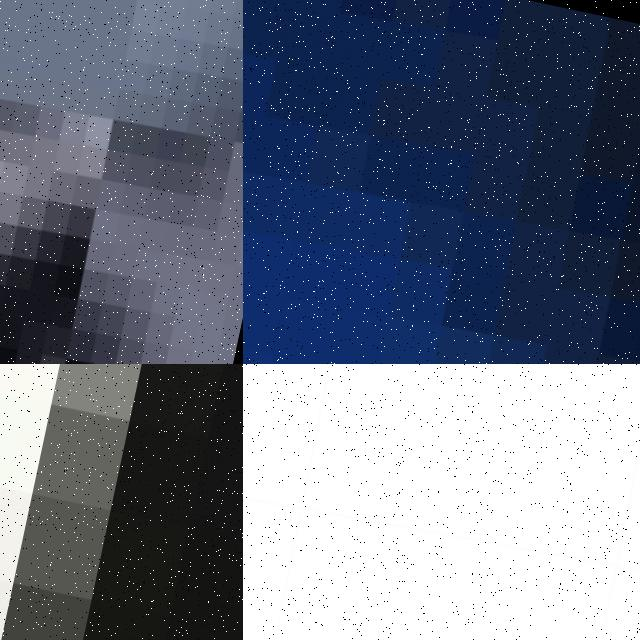drone: (243, 0, 640, 364), (243, 364, 640, 640), (0, 0, 243, 364)
